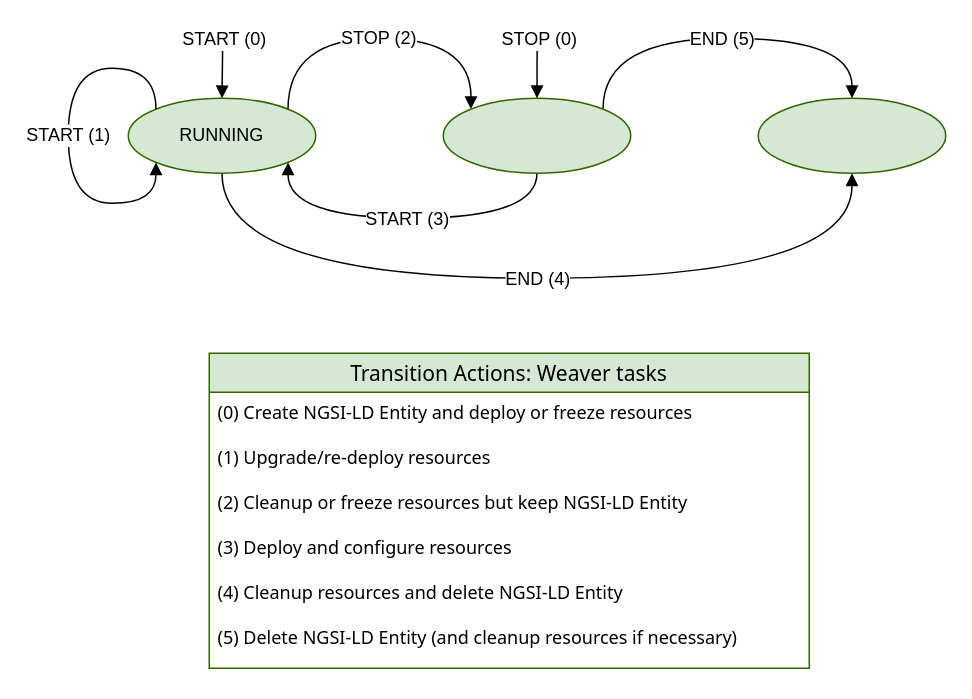
This 972x699 diagram has some shape labels left out. The centre of each missing label's shape, as x and y in pixels:
"CLEANED" goes at point 851,135.
"STOPPED" goes at point 536,135.
